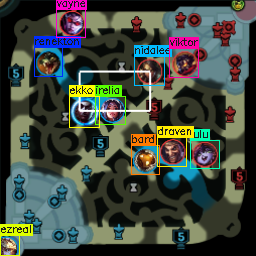bard: (133, 148, 156, 173)
draven: (161, 139, 185, 164)
ekko: (71, 99, 97, 123)
ezreal: (1, 236, 18, 256)
irelia: (99, 98, 125, 122)
lulu: (192, 141, 218, 165)
nidalee: (137, 59, 162, 83)
renekton: (35, 50, 61, 75)
vayne: (59, 11, 85, 36)
viktor: (171, 51, 197, 76)
